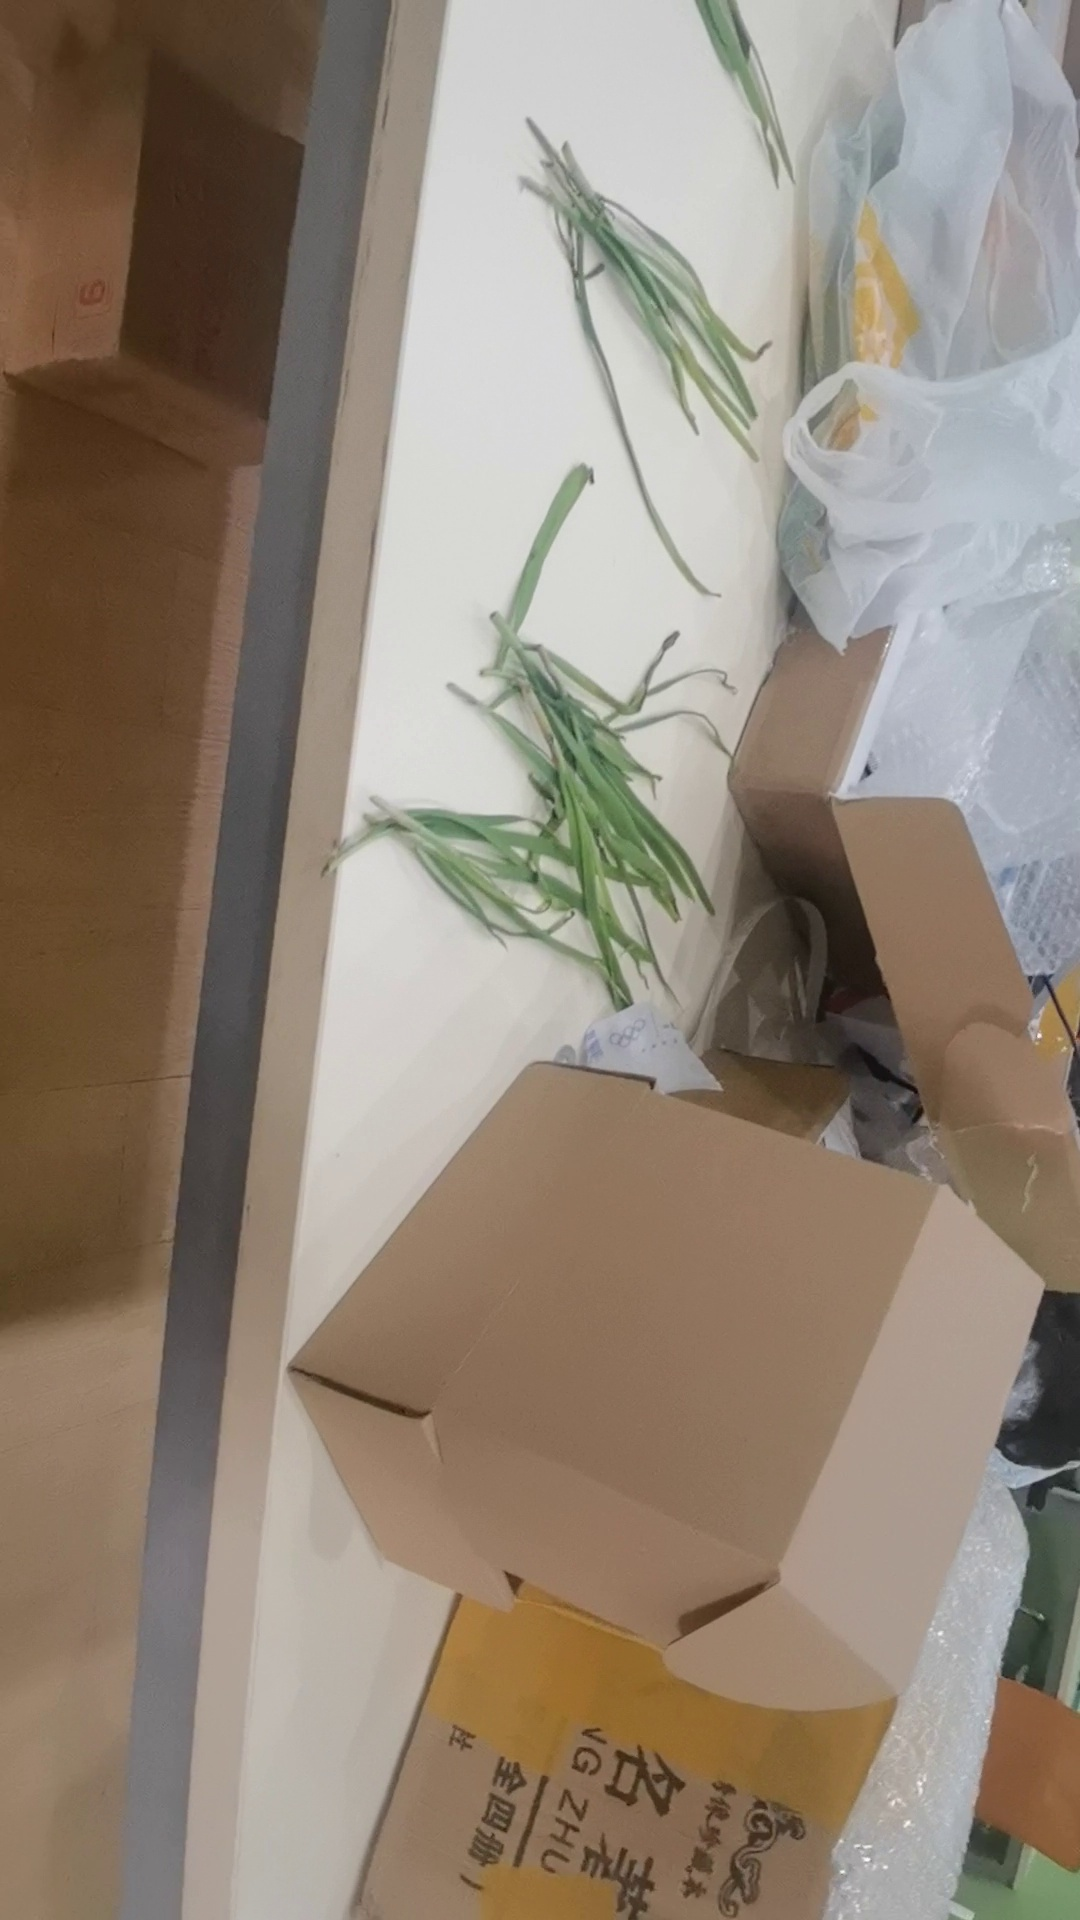chives: (340, 451, 745, 1027), (392, 133, 816, 576), (612, 1, 812, 179)
